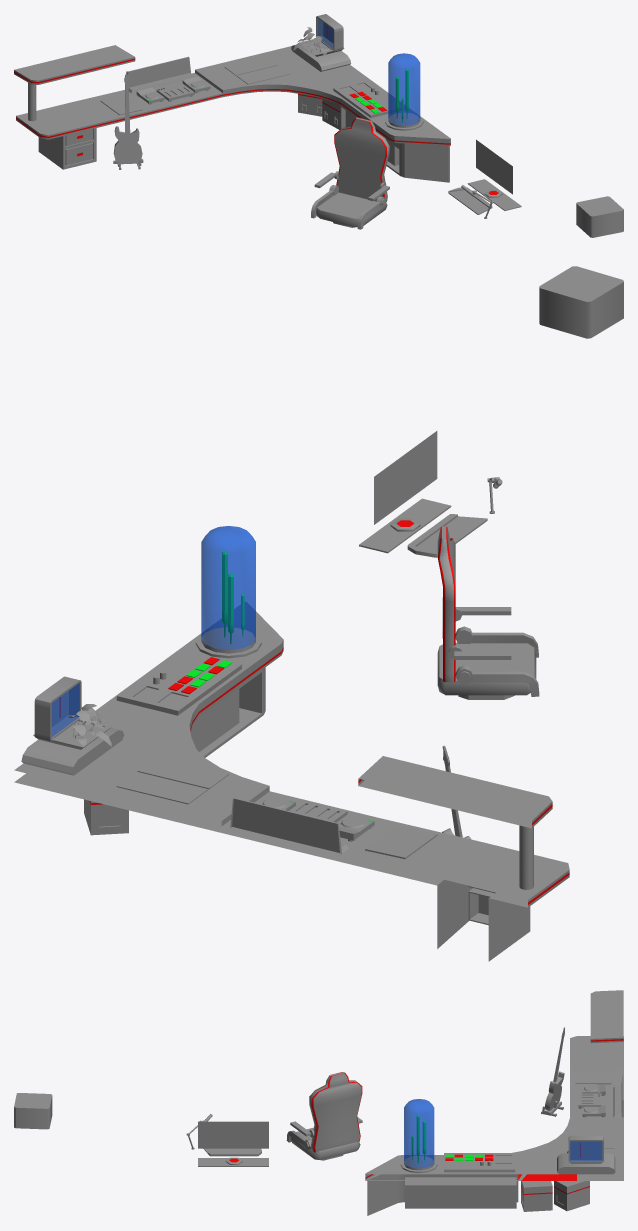
File: deco2_3ds.fbx
The picture shows the model from 3 angles, top to bottom: view 1: azimuth 30°, elevation 25°; view 2: azimuth 150°, elevation 25°; view 3: azimuth 270°, elevation 25°; orthographic projection. The views are drawn at different scales.
Visible parts, largest first — view 1: deco2; view 2: deco2; view 3: deco2.
Part boxes in pixels (x1,y1,x2,y2): deco2: [14, 14, 623, 237]; deco2: [14, 266, 623, 961]; deco2: [14, 990, 623, 1215].
Bounding box in the file's own units: 6.02 × 2.1 × 10.95.
